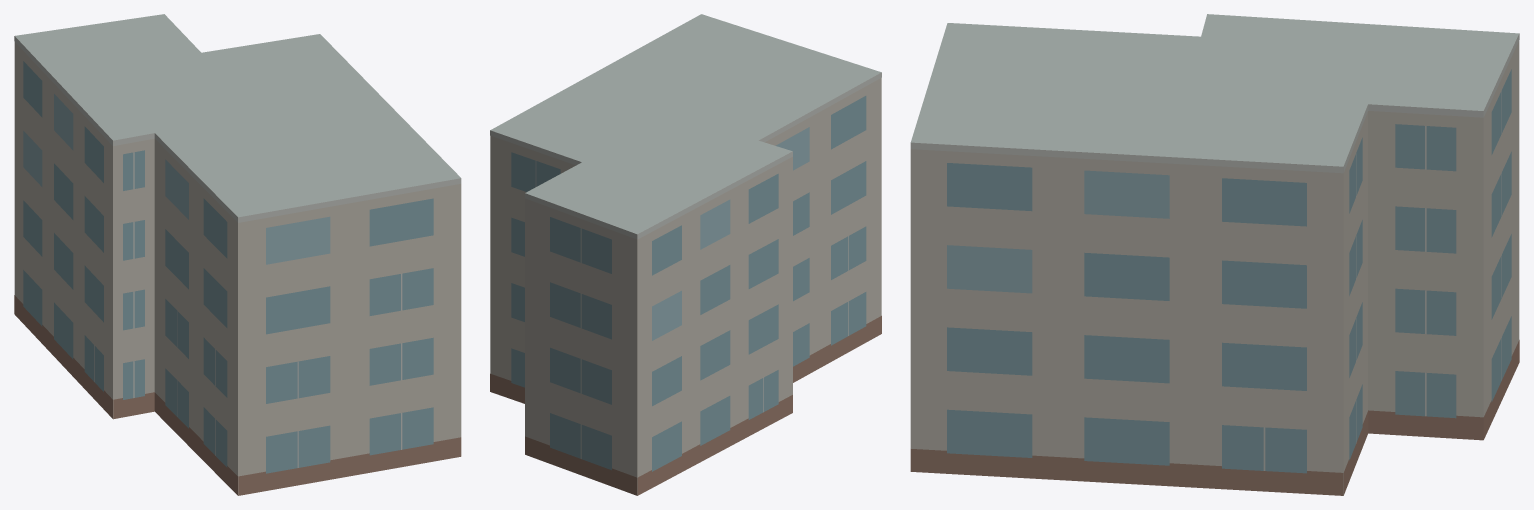
Rendered from survey-upis-33026986.glb.
3 views of the same model, side by side, from view 1: azimuth 30°, elevation 25°; view 2: azimuth 150°, elevation 25°; view 3: azimuth 270°, elevation 25° (orthographic). The views are drawn at different scales.
Parts seen in each view (by area): view 1: survey-upis-33026986.tmp; view 2: survey-upis-33026986.tmp; view 3: survey-upis-33026986.tmp.
Boxes of the visible parts, x1,y1,x2,y2 form: survey-upis-33026986.tmp: [14, 14, 461, 495]; survey-upis-33026986.tmp: [490, 14, 881, 495]; survey-upis-33026986.tmp: [910, 14, 1519, 495].
Size of the model in its own units: 12.15 by 12.2 by 20.46.
